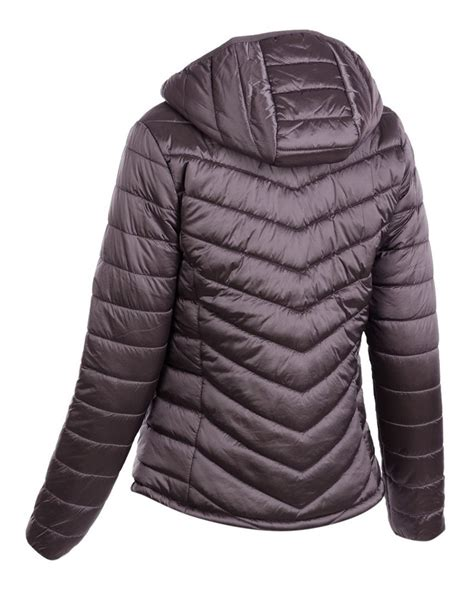nylon: (25, 30, 447, 559)
